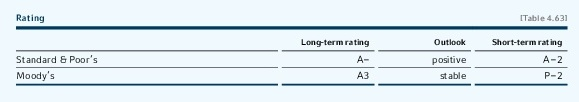table: (0, 0, 579, 102)
